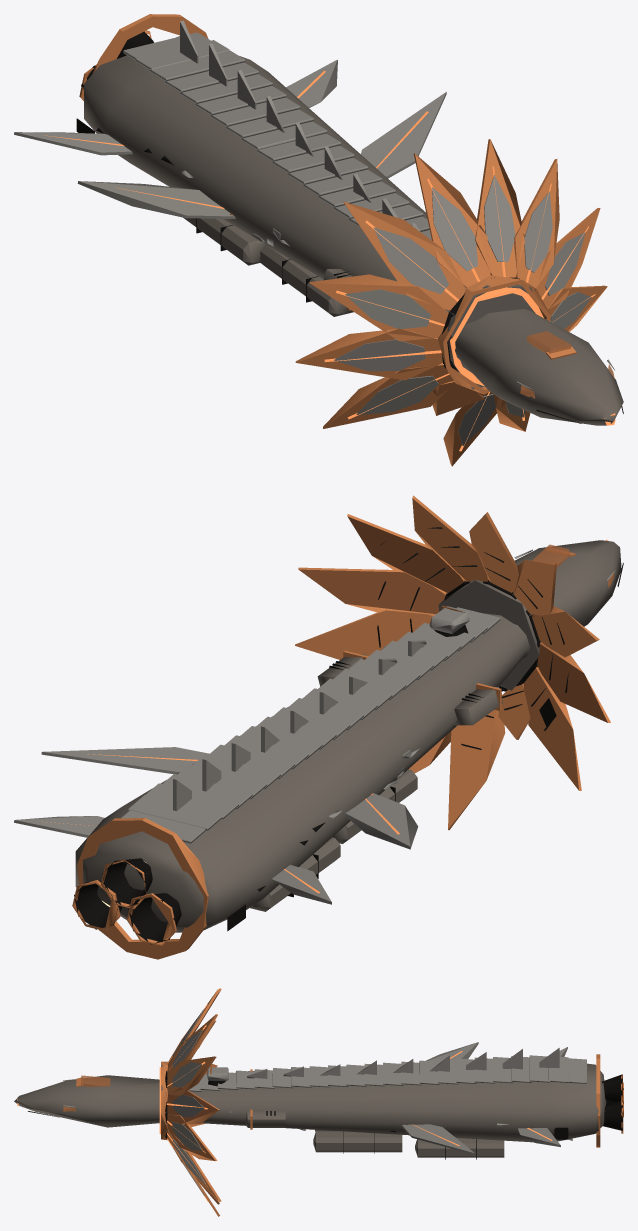
The model's file is kryza-heliotropi-trade-17-lod1.glb.
The picture shows the model from 3 angles, top to bottom: view 1: azimuth 30°, elevation 25°; view 2: azimuth 150°, elevation 25°; view 3: azimuth 270°, elevation 25°; orthographic projection. The views are drawn at different scales.
Bounding box in the file's own units: 20.46 × 17.24 × 46.72.
